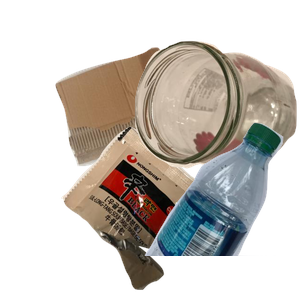cardboard: (53, 45, 221, 204)
glass: (132, 38, 300, 199)
plastic: (142, 120, 300, 300)
trash: (59, 124, 273, 300)
